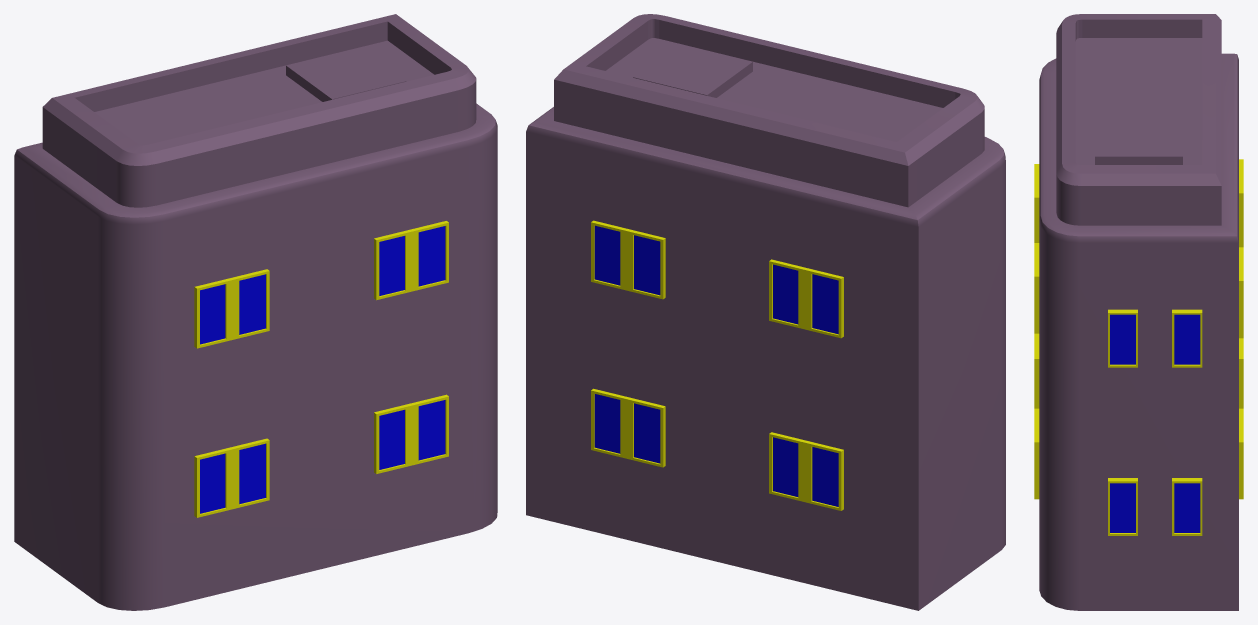
3 renders of one model, left to right at view 1: azimuth 30°, elevation 25°; view 2: azimuth 150°, elevation 25°; view 3: azimuth 270°, elevation 25°, orthographic. The views are drawn at different scales.
Visible parts, largest first — view 1: pCube40, pCube65, pCube48, pCube67, pCube49, pCube45; view 2: pCube40, pCube68, pCube46, pCube66, pCube47, pCube45; view 3: pCube40, pCube45, polySurface39, polySurface41, polySurface40, polySurface42, pCube67, pCube49, pCube48, pCube47, pCube66, pCube65 (+2 smaller).
Boxes of the visible parts, left/top/right/bottom form: pCube40: left=14, top=14, right=497, bottom=610; pCube65: left=194, top=438, right=269, bottom=517; pCube48: left=194, top=269, right=269, bottom=348; pCube67: left=374, top=394, right=448, bottom=473; pCube49: left=374, top=221, right=448, bottom=300; pCube45: left=286, top=47, right=406, bottom=101; pCube40: left=526, top=14, right=1005, bottom=610; pCube68: left=769, top=259, right=843, bottom=338; pCube46: left=769, top=432, right=843, bottom=510; pCube66: left=591, top=220, right=665, bottom=299; pCube47: left=591, top=388, right=665, bottom=467; pCube45: left=633, top=43, right=752, bottom=97; pCube40: left=1039, top=14, right=1238, bottom=610; pCube45: left=1095, top=122, right=1182, bottom=164; polySurface39: left=1172, top=309, right=1202, bottom=367; polySurface41: left=1172, top=478, right=1202, bottom=535; polySurface40: left=1108, top=309, right=1137, bottom=367; polySurface42: left=1108, top=478, right=1137, bottom=535; pCube67: left=1034, top=408, right=1039, bottom=499; pCube49: left=1034, top=243, right=1039, bottom=333; pCube48: left=1034, top=164, right=1039, bottom=242; pCube47: left=1239, top=408, right=1243, bottom=499; pCube66: left=1239, top=247, right=1243, bottom=338; pCube65: left=1034, top=333, right=1039, bottom=408.
Size of the model in its own units: 37.33 by 39.71 by 17.64.
